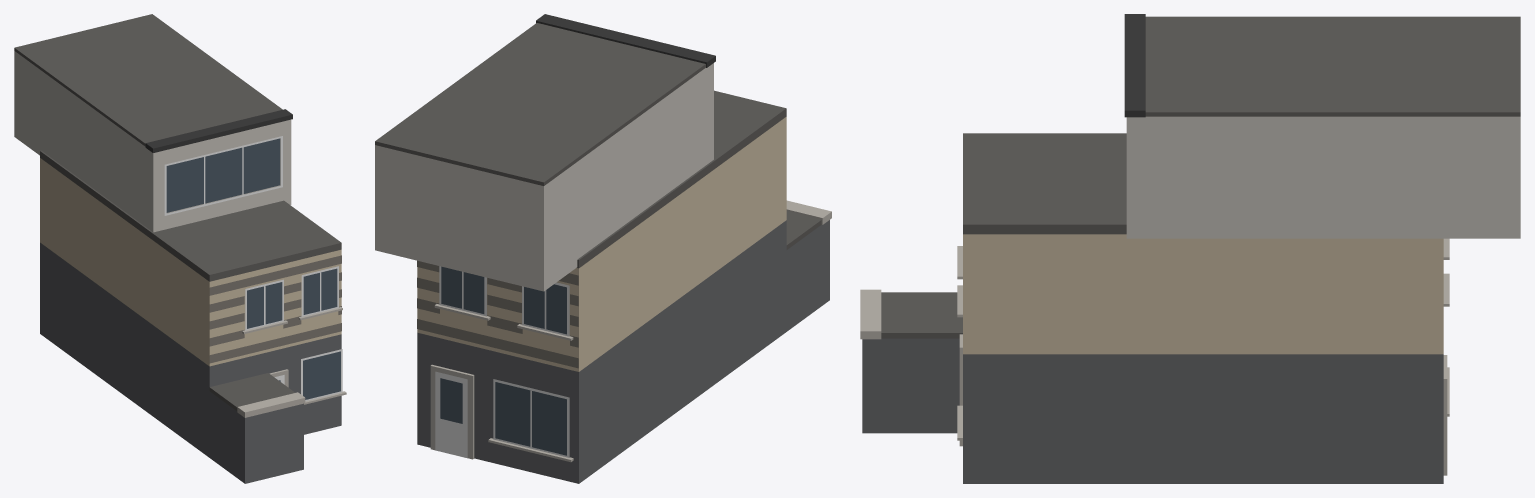
The model's file is nd-tw-flat-top__striped-box__2__flat__long__solid.glb.
3 views of the same model, side by side, from view 1: azimuth 30°, elevation 25°; view 2: azimuth 150°, elevation 25°; view 3: azimuth 270°, elevation 25° (orthographic). The views are drawn at different scales.
Visible parts, largest first — view 1: nd-tw-flat-top__striped-box__2__flat__long__solid; view 2: nd-tw-flat-top__striped-box__2__flat__long__solid; view 3: nd-tw-flat-top__striped-box__2__flat__long__solid.
Boxes of the visible parts, x1,y1,x2,y2 form: nd-tw-flat-top__striped-box__2__flat__long__solid: (14,14,346,483); nd-tw-flat-top__striped-box__2__flat__long__solid: (375,14,831,483); nd-tw-flat-top__striped-box__2__flat__long__solid: (860,14,1520,483).
Size of the model in its own units: 4.81 by 8.7 by 13.74.
